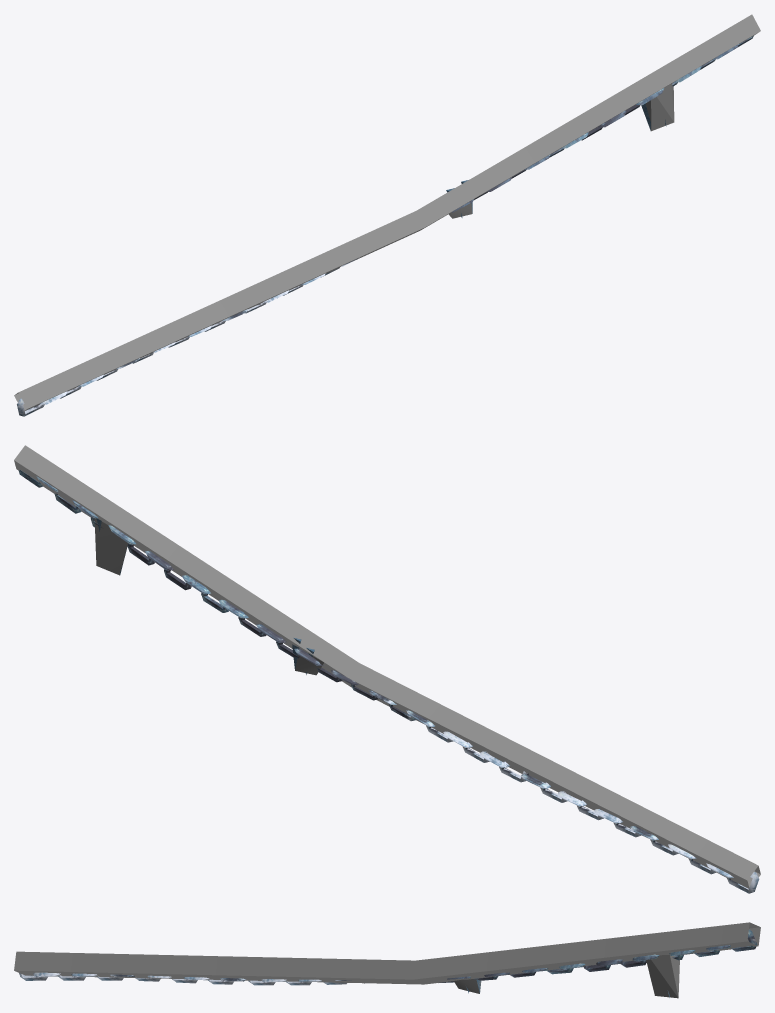
Rendered from Scene_Build_TianShan_SuoLian_1d.FBX.
3 renders of one model, top to bottom at view 1: azimuth 30°, elevation 25°; view 2: azimuth 150°, elevation 25°; view 3: azimuth 330°, elevation 25°, orthographic. The views are drawn at different scales.
Visible parts, largest first — view 1: Scene_Build_TianShan_SuoLian_1d_Xzm, Scene_Build_TianShan_SuoLian_1d; view 2: Scene_Build_TianShan_SuoLian_1d_Xzm, Scene_Build_TianShan_SuoLian_1d; view 3: Scene_Build_TianShan_SuoLian_1d_Xzm, Scene_Build_TianShan_SuoLian_1d.
Part boxes in pixels (left/top/right/bottom): Scene_Build_TianShan_SuoLian_1d_Xzm: left=14, top=14, right=760, bottom=410; Scene_Build_TianShan_SuoLian_1d: left=17, top=35, right=753, bottom=416; Scene_Build_TianShan_SuoLian_1d_Xzm: left=14, top=445, right=760, bottom=888; Scene_Build_TianShan_SuoLian_1d: left=18, top=470, right=759, bottom=893; Scene_Build_TianShan_SuoLian_1d_Xzm: left=14, top=922, right=760, bottom=998; Scene_Build_TianShan_SuoLian_1d: left=19, top=929, right=757, bottom=997.
Bounding box in the file's own units: 3568 × 1140 × 251.
